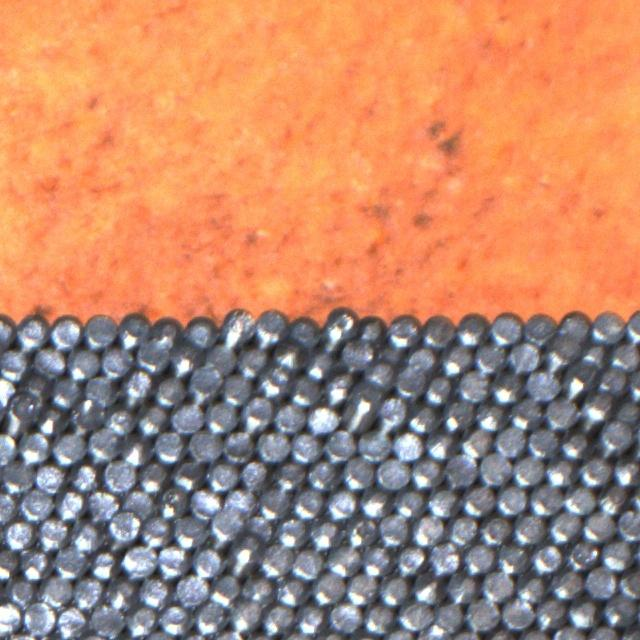tool: (204, 399, 238, 434), (422, 312, 456, 347), (158, 602, 192, 636), (102, 458, 136, 492), (598, 418, 632, 452), (169, 401, 203, 435), (310, 570, 344, 604), (322, 428, 356, 462), (21, 601, 55, 635), (34, 516, 68, 550), (169, 458, 203, 492), (227, 598, 261, 632), (48, 316, 82, 350), (386, 314, 420, 348), (290, 486, 324, 520), (172, 514, 206, 548), (392, 540, 426, 574), (442, 452, 476, 486), (489, 369, 524, 402), (220, 309, 253, 344), (375, 396, 408, 430), (122, 543, 155, 577), (456, 368, 489, 402), (124, 603, 158, 636), (135, 400, 168, 434), (152, 428, 185, 462), (513, 511, 546, 545), (438, 342, 472, 375), (32, 345, 65, 379), (118, 371, 152, 404), (99, 344, 132, 378), (187, 429, 220, 463), (377, 571, 410, 605), (578, 452, 611, 486), (509, 397, 543, 430), (49, 374, 82, 408), (480, 569, 513, 603), (601, 594, 634, 628), (82, 313, 115, 347), (220, 429, 254, 462), (85, 428, 118, 462), (53, 544, 86, 578), (477, 452, 511, 485), (562, 483, 596, 516), (410, 571, 443, 605), (511, 453, 544, 487), (530, 482, 563, 516), (65, 345, 98, 379), (344, 570, 377, 604), (465, 597, 498, 631), (137, 574, 170, 608), (472, 341, 506, 374), (325, 486, 358, 520), (308, 516, 342, 549), (446, 513, 479, 547), (514, 570, 547, 604), (427, 484, 461, 517), (391, 428, 424, 462), (341, 455, 374, 489), (567, 594, 600, 628), (508, 339, 542, 372), (254, 308, 287, 342), (578, 391, 612, 424), (83, 375, 116, 409), (583, 564, 617, 597), (444, 571, 478, 604), (427, 540, 461, 573), (530, 540, 563, 574), (224, 541, 257, 575), (89, 602, 122, 636), (117, 311, 150, 345), (455, 312, 488, 346), (322, 308, 355, 342), (397, 598, 430, 631), (4, 574, 37, 607), (359, 543, 392, 576), (565, 537, 598, 570), (153, 373, 186, 406), (16, 430, 49, 463), (205, 459, 238, 492), (475, 398, 508, 431), (581, 509, 614, 542), (220, 371, 253, 404), (600, 537, 633, 570), (358, 486, 391, 519), (479, 512, 512, 545), (525, 368, 558, 401), (430, 601, 463, 634), (104, 577, 137, 610), (462, 541, 495, 574), (234, 343, 267, 376), (193, 600, 226, 633), (121, 486, 154, 519), (460, 426, 493, 459), (208, 510, 241, 543), (106, 511, 139, 544), (377, 512, 410, 545), (559, 426, 592, 459), (495, 482, 528, 515), (544, 396, 577, 429), (1, 401, 34, 434), (341, 396, 374, 429), (275, 515, 308, 548), (70, 576, 104, 608), (408, 399, 440, 433), (462, 482, 494, 516), (358, 428, 390, 462), (208, 572, 240, 606), (55, 605, 87, 639), (272, 458, 306, 490), (490, 312, 522, 346), (240, 397, 272, 431), (401, 348, 435, 380), (67, 398, 101, 430), (500, 597, 532, 630), (173, 574, 206, 606), (306, 458, 339, 490), (257, 428, 289, 461), (274, 400, 306, 433), (362, 601, 395, 633), (526, 426, 559, 458), (548, 509, 580, 542), (376, 456, 408, 489), (262, 601, 294, 634), (51, 432, 84, 464), (328, 600, 361, 632), (410, 456, 442, 489), (534, 596, 567, 628), (1, 460, 33, 493), (290, 430, 322, 463), (258, 544, 291, 576), (19, 487, 51, 520), (548, 567, 580, 600), (326, 543, 358, 576), (294, 601, 327, 633), (412, 513, 444, 546), (85, 488, 118, 520), (18, 546, 51, 578), (496, 541, 528, 574), (67, 459, 99, 492), (257, 366, 290, 398), (68, 520, 101, 552), (35, 404, 67, 437), (290, 546, 322, 579), (88, 546, 120, 579), (524, 311, 557, 343), (544, 454, 576, 487), (493, 424, 525, 457), (38, 576, 71, 608), (190, 545, 222, 578), (188, 368, 220, 401), (424, 428, 457, 460), (245, 509, 277, 542), (344, 513, 376, 546), (560, 364, 592, 397), (392, 487, 425, 519), (15, 376, 48, 408), (149, 316, 181, 349), (362, 359, 396, 390), (307, 402, 339, 434), (423, 372, 455, 404), (592, 310, 624, 342), (156, 544, 188, 576), (258, 486, 290, 518), (275, 574, 307, 606), (156, 486, 188, 518), (103, 404, 135, 436), (2, 518, 34, 550), (225, 486, 257, 518), (136, 459, 168, 491), (239, 458, 271, 490), (189, 487, 221, 519), (442, 398, 474, 430), (136, 339, 168, 371), (185, 316, 217, 348), (15, 316, 47, 348), (290, 374, 322, 406), (597, 481, 629, 513), (241, 573, 273, 605), (541, 340, 573, 372), (118, 434, 150, 466), (140, 514, 172, 546), (200, 346, 232, 378), (34, 462, 66, 493), (54, 488, 85, 520), (321, 372, 353, 403), (609, 338, 640, 370), (341, 337, 372, 369), (168, 344, 199, 376), (393, 366, 424, 398), (288, 314, 319, 346), (558, 312, 590, 343), (578, 338, 609, 369), (356, 313, 387, 344), (274, 341, 306, 371), (596, 363, 626, 395), (305, 348, 336, 378), (0, 348, 29, 380), (611, 454, 640, 486), (612, 393, 640, 425), (615, 508, 640, 540), (617, 566, 640, 599), (0, 602, 20, 634), (586, 622, 620, 640), (0, 547, 19, 579), (553, 623, 586, 640), (0, 491, 17, 524), (0, 431, 16, 464), (0, 312, 17, 343), (625, 308, 640, 342), (414, 625, 448, 640), (0, 372, 15, 404), (518, 625, 550, 640), (626, 367, 640, 398)
